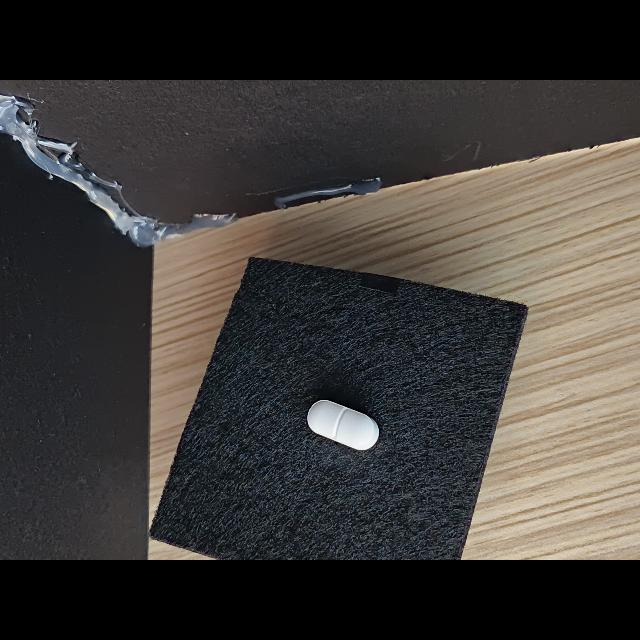Intact Pill: (307, 400, 379, 450)
